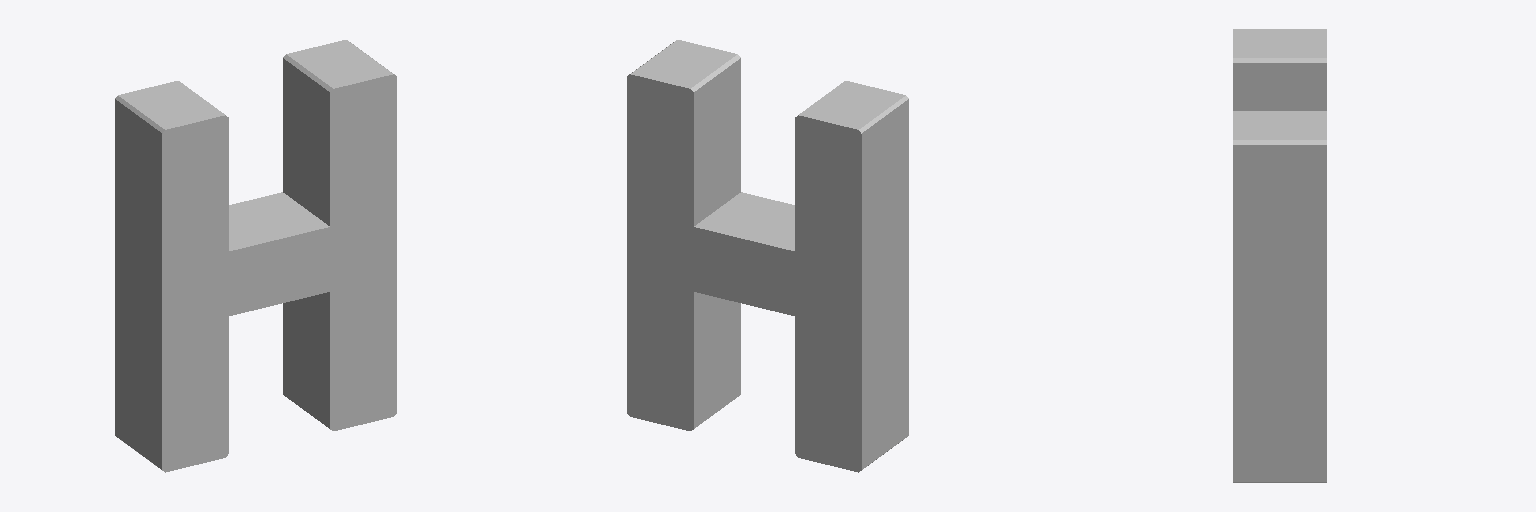
The picture shows the model from 3 angles: view 1: azimuth 30°, elevation 25°; view 2: azimuth 150°, elevation 25°; view 3: azimuth 270°, elevation 25°; orthographic projection.
Parts seen in each view (by area): view 1: text: ABCDEFGHIJKLMNOPQRSTUVWXYZ[number redacted]; view 2: text: ABCDEFGHIJKLMNOPQRSTUVWXYZ[number redacted]; view 3: text: ABCDEFGHIJKLMNOPQRSTUVWXYZ[number redacted].
Part boxes in pixels (x1,y1,x2,y2): text: ABCDEFGHIJKLMNOPQRSTUVWXYZ[number redacted]: (115, 40, 396, 472); text: ABCDEFGHIJKLMNOPQRSTUVWXYZ[number redacted]: (627, 40, 908, 472); text: ABCDEFGHIJKLMNOPQRSTUVWXYZ[number redacted]: (1233, 29, 1326, 482).
Bounding box in the file's own units: 71.35 × 99.57 × 25.